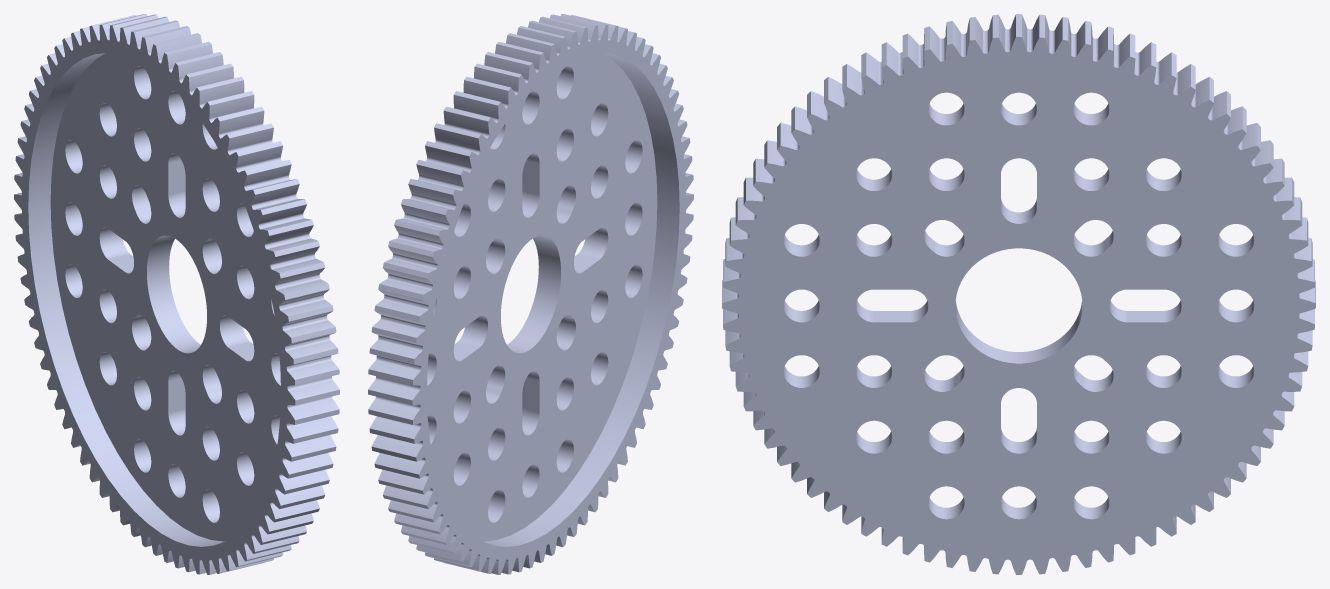
File: _2302_0014_0080_STEP_1_.obj
3 renders of one model, left to right at view 1: azimuth 30°, elevation 25°; view 2: azimuth 150°, elevation 25°; view 3: azimuth 270°, elevation 25°, orthographic. The views are drawn at different scales.
Visible parts, largest first — view 1: mesh3097, mesh3187, mesh3185, mesh3184, mesh3160, mesh3159, mesh3127, mesh3098, mesh3414, mesh3362, mesh3365, mesh3417 (+22 smaller); view 2: mesh3097, mesh3187, mesh3185, mesh3184, mesh3160, mesh3159, mesh3520, mesh3575, mesh3572, mesh3517, mesh3523, mesh3569 (+20 smaller); view 3: mesh3186, mesh3160.
Boxes of the visible parts, x1,y1,x2,y2 form: mesh3097: (50,53,280,541); mesh3187: (14,25,295,574); mesh3185: (28,202,225,546); mesh3184: (28,53,105,207); mesh3160: (147,267,200,353); mesh3159: (147,235,174,272); mesh3127: (220,315,250,347); mesh3098: (99,227,129,259); mesh3414: (286,435,336,457); mesh3362: (199,80,244,103); mesh3365: (209,95,254,118); mesh3417: (283,453,333,474); mesh3097: (427,53,657,541); mesh3187: (412,25,693,574); mesh3185: (482,202,679,546); mesh3184: (602,53,679,207); mesh3160: (507,267,560,353); mesh3159: (533,235,560,272); mesh3520: (371,435,421,457); mesh3575: (463,80,508,103); mesh3572: (453,95,498,118); mesh3517: (374,453,424,474); mesh3523: (370,417,420,438); mesh3569: (443,110,489,133); mesh3186: (722,37,1315,574); mesh3160: (955,301,1082,363).
Size of the model in its own units: 0.006 by 0.0656 by 0.0656.
